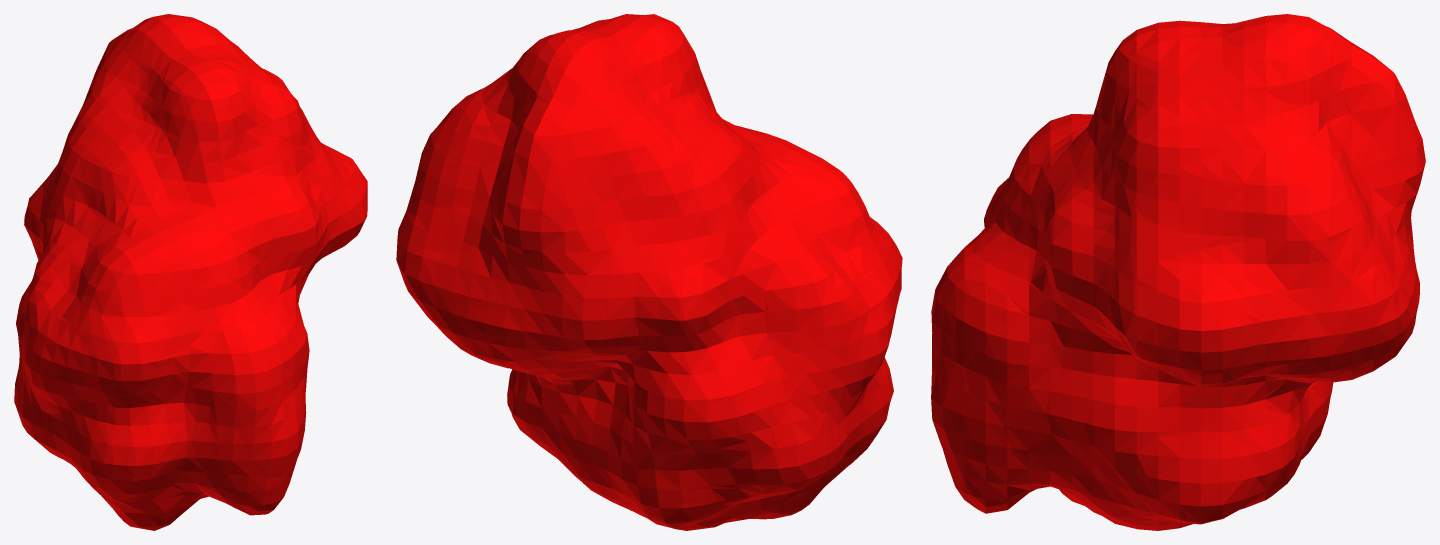
Rendered from yidA_coarse.dae.
3 renders of one model, left to right at view 1: azimuth 30°, elevation 25°; view 2: azimuth 150°, elevation 25°; view 3: azimuth 270°, elevation 25°, orthographic. The views are drawn at different scales.
Visible parts, largest first — view 1: yidA; view 2: yidA; view 3: yidA.
Part boxes in pixels (x1,y1,x2,y2): yidA: (14, 14, 367, 530); yidA: (396, 14, 902, 530); yidA: (931, 14, 1425, 530).
Size of the model in its own units: 51 by 58.58 by 48.29.
